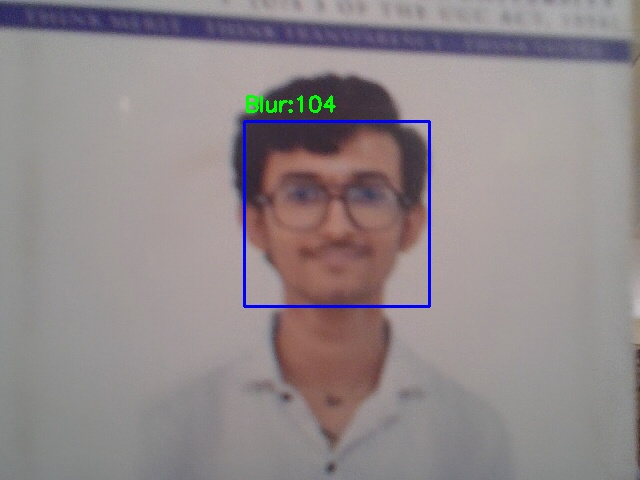fake: (244, 121, 429, 306)
